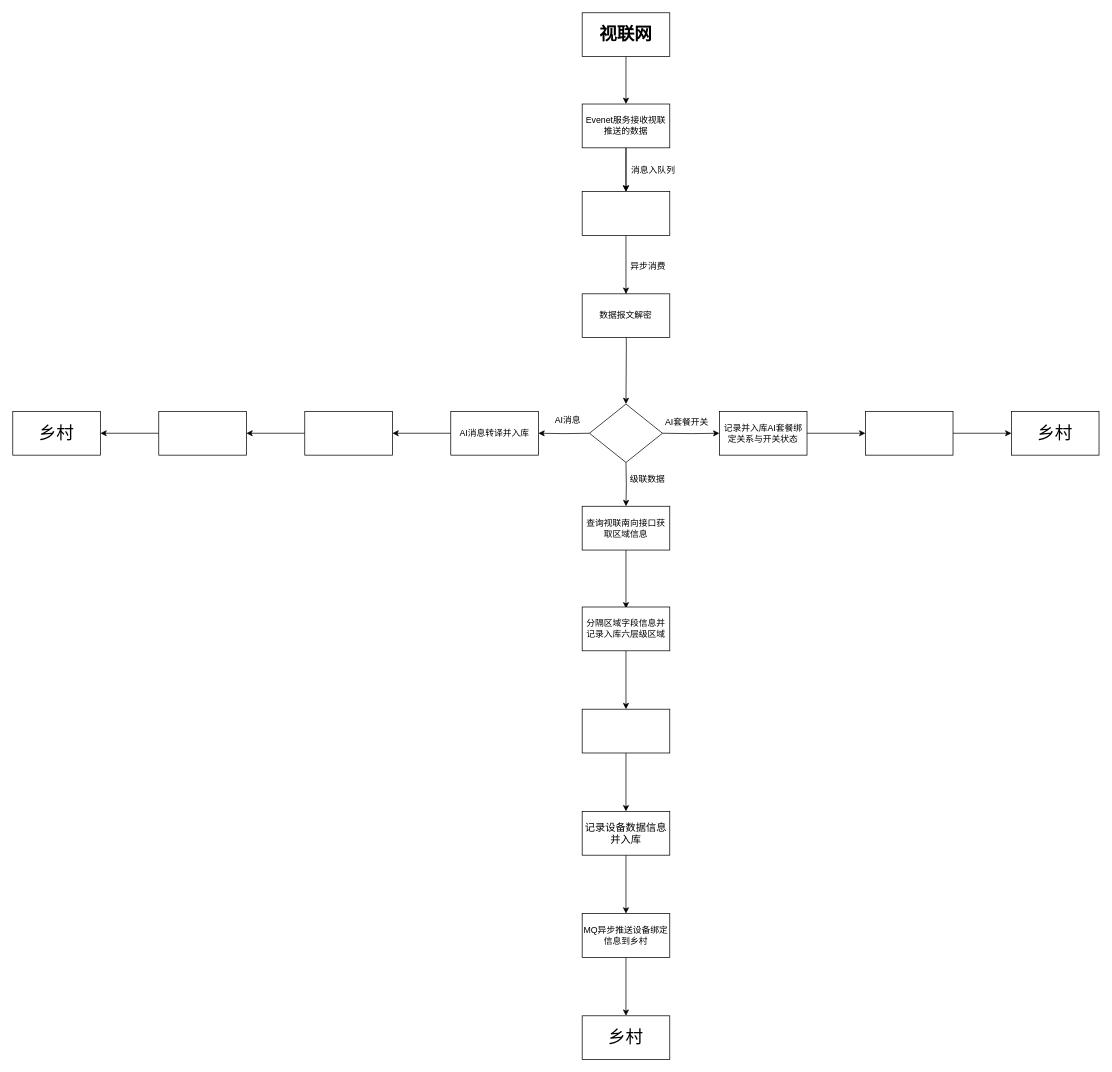
The diagram is 1112 pixels wide and 1072 high, and some of its shapes have lost their labels. The box of each missing label's shape, as (x1, y1, x2, y2) in pixels:
RocketMq: (581, 191, 670, 235)
区分AI类型: (589, 403, 662, 462)
推送 AI 套餐绑定与 AI 开关数据到乡村: (865, 411, 953, 455)
推送 AI 消息数据到乡村: (158, 411, 246, 455)
记录图片关联关系: (304, 411, 392, 455)
记录设备与设备主手机号: (581, 708, 670, 753)
